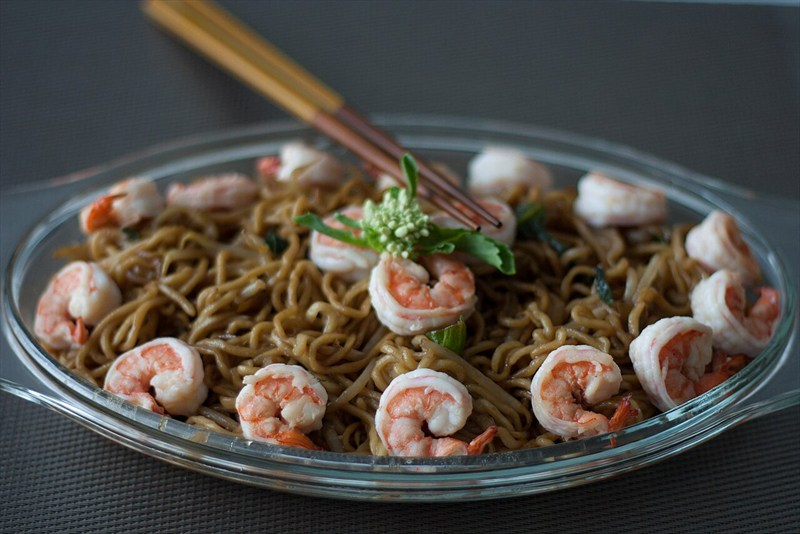Mie Goreng: (27, 142, 723, 450)
